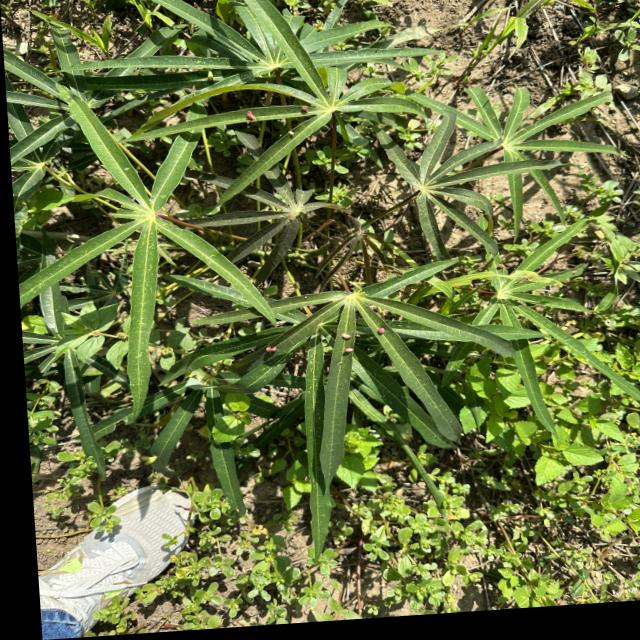Maleza: (464, 376, 539, 556), (568, 388, 640, 558)
Mosca: (246, 334, 288, 356), (294, 87, 321, 116), (338, 327, 357, 364), (196, 60, 216, 90), (233, 106, 260, 127), (278, 122, 301, 140), (371, 319, 391, 338)
